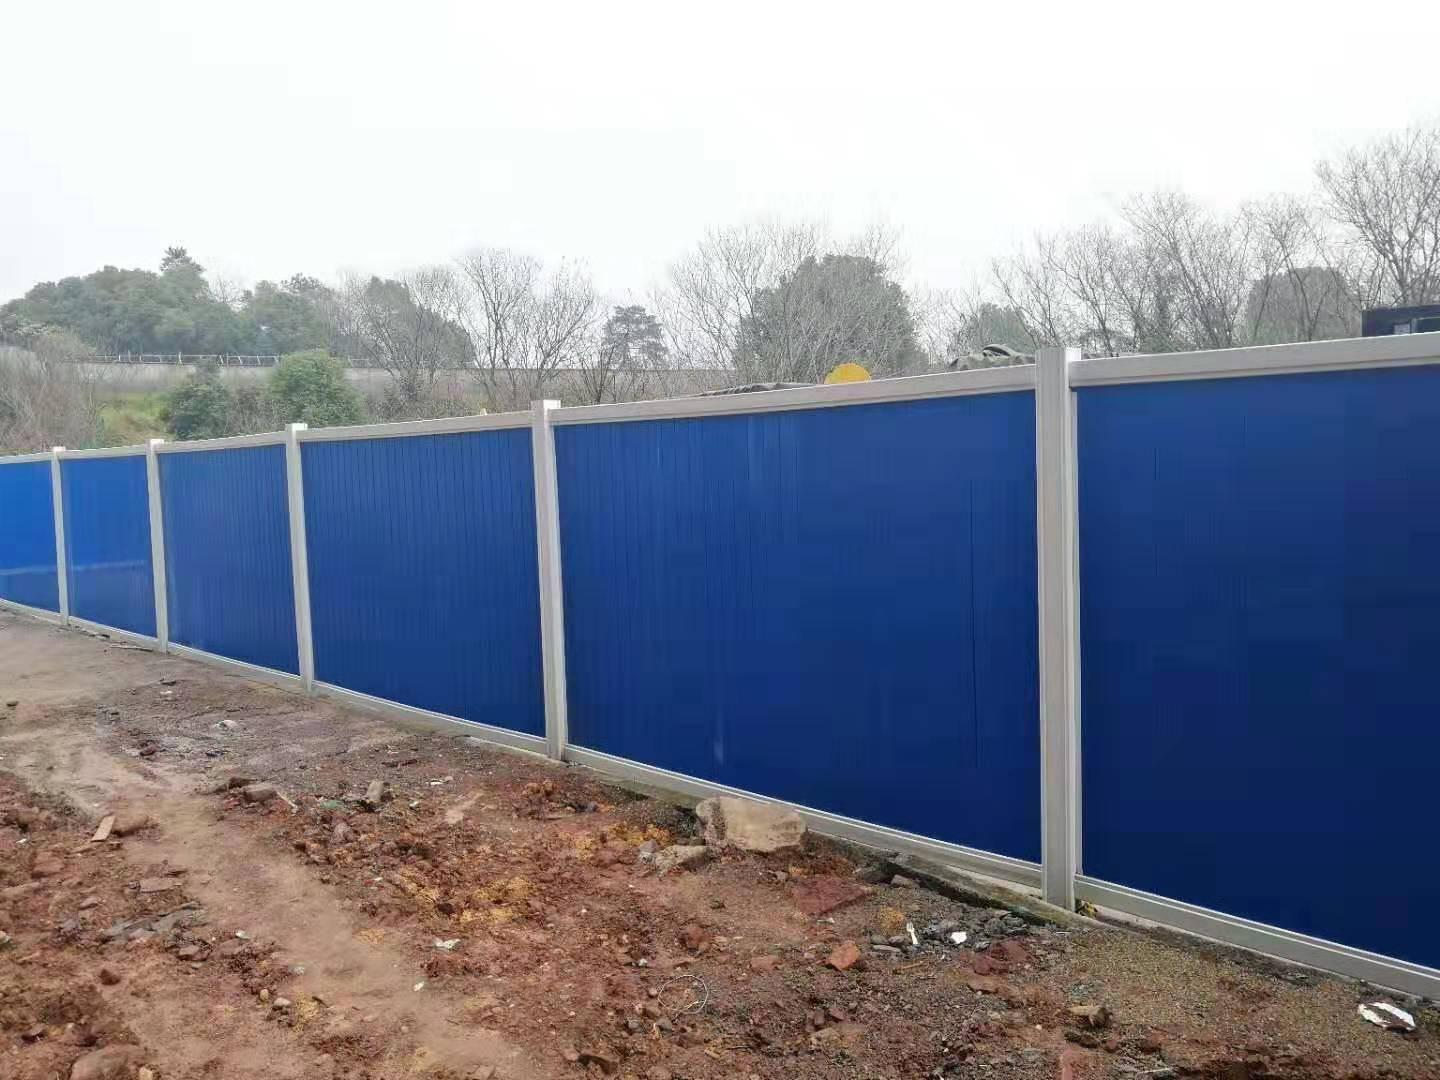sign: (513, 329, 1437, 909), (5, 410, 505, 744)
